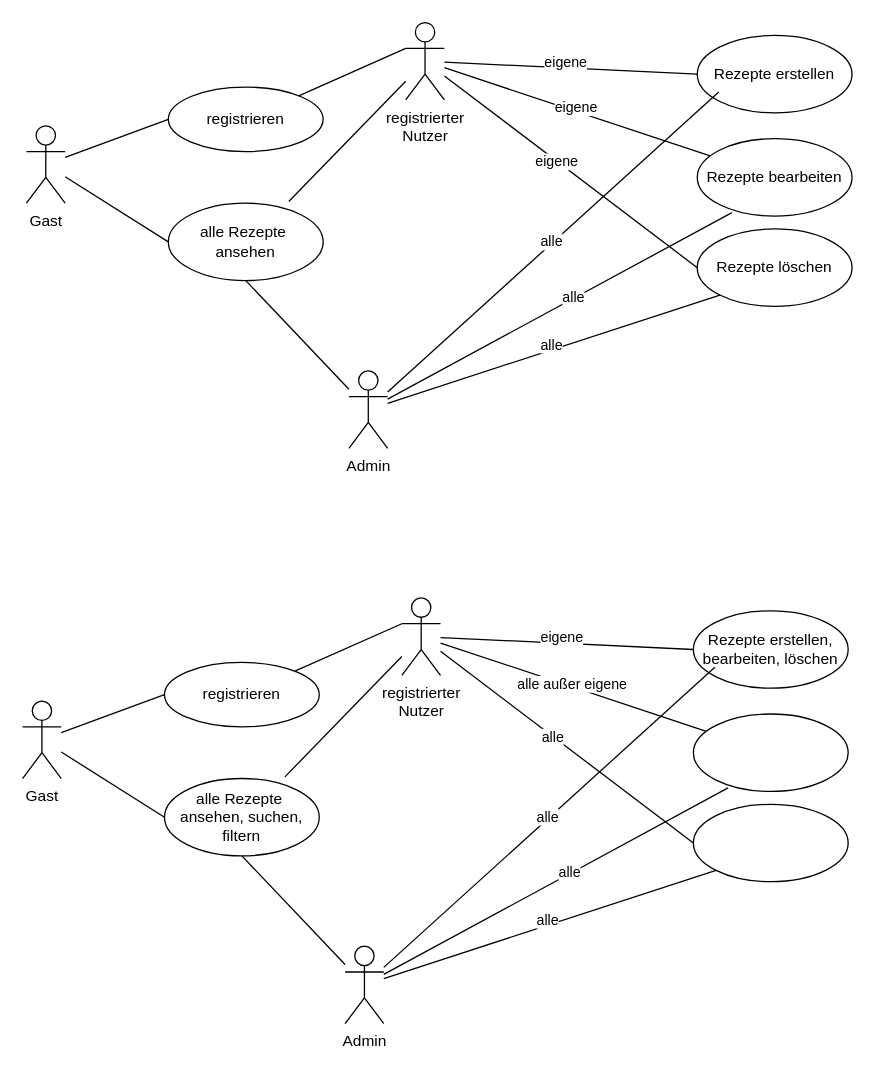
Image size: 875x1073. Some labels were removed from this diagram. Here are the shapes that lost their labels. From the top down, the centre of each, then its label:
pixel 770 752: Rezepte bewerten
pixel 770 842: Rezepte kommentieren
